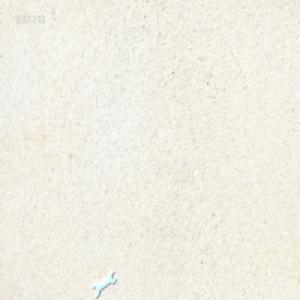Wrench: (93, 270, 118, 297)
